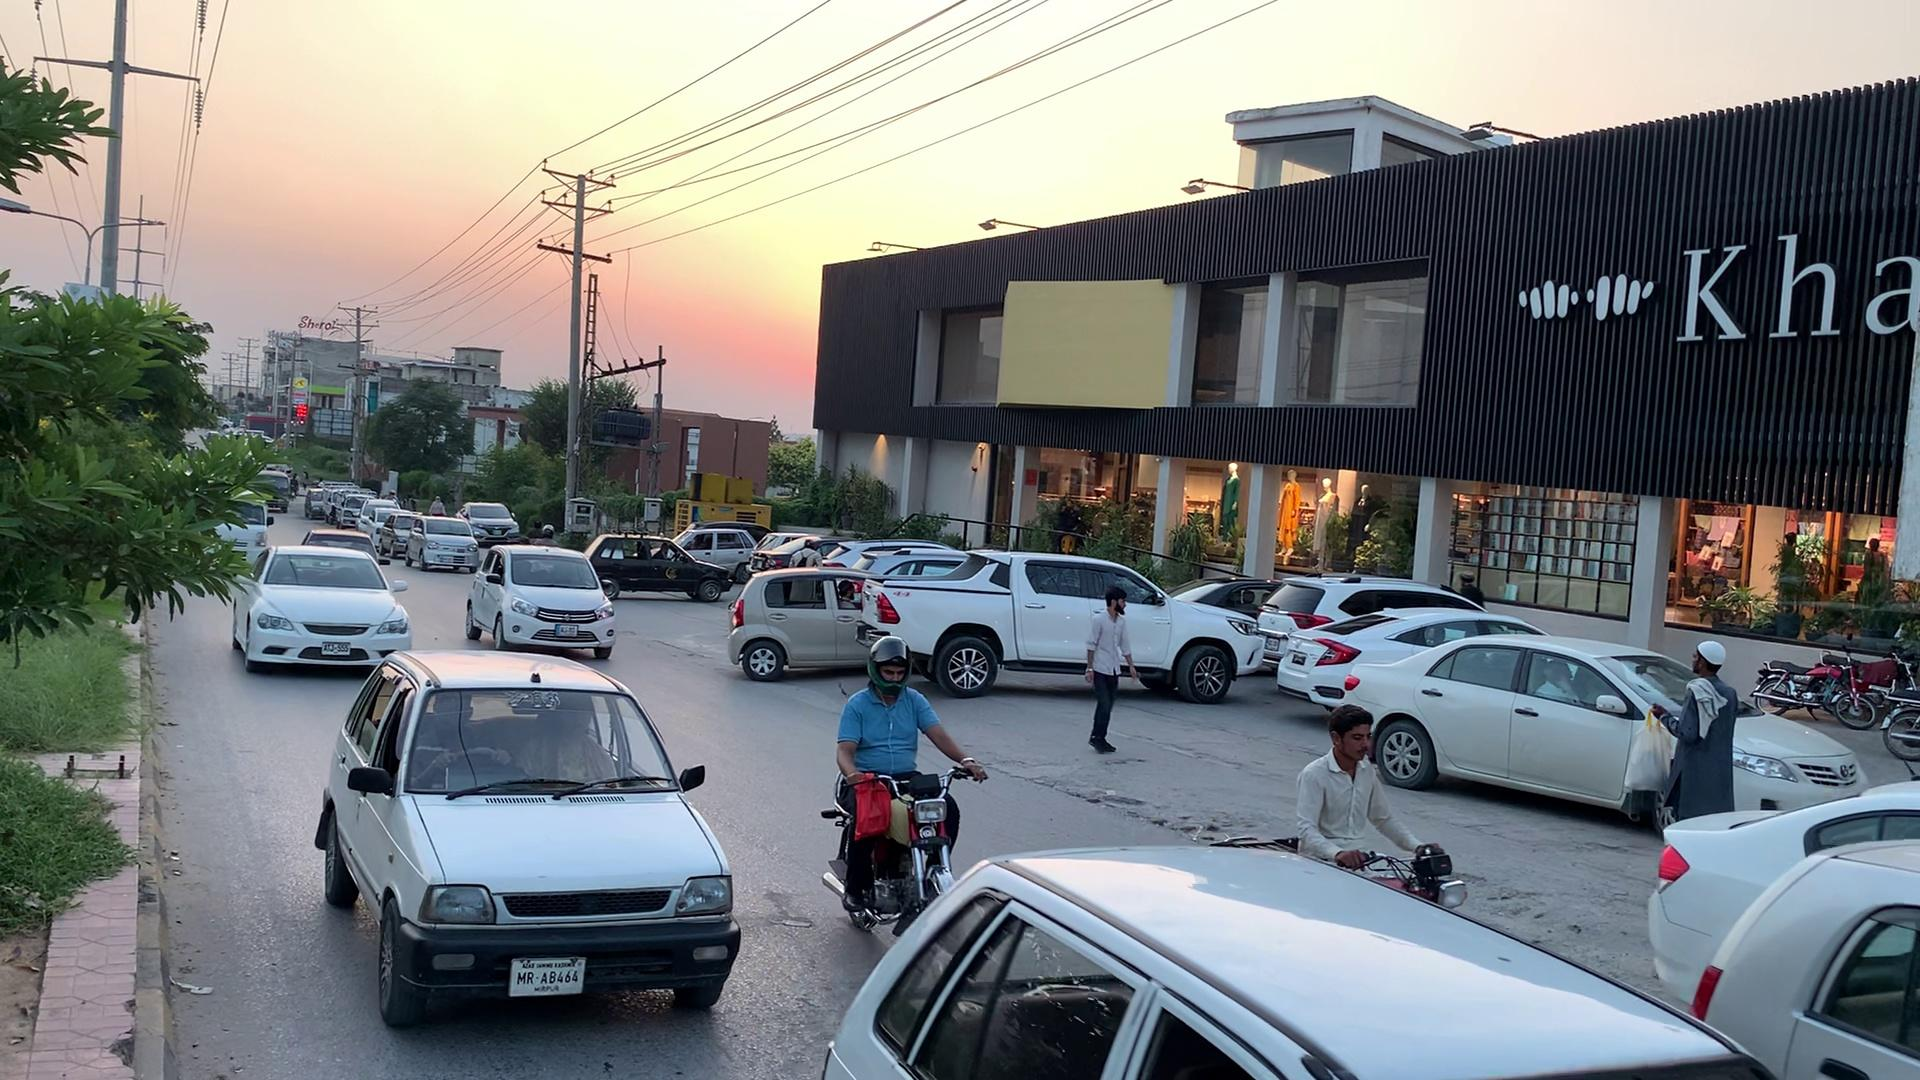windshield: (394, 674, 680, 810)
